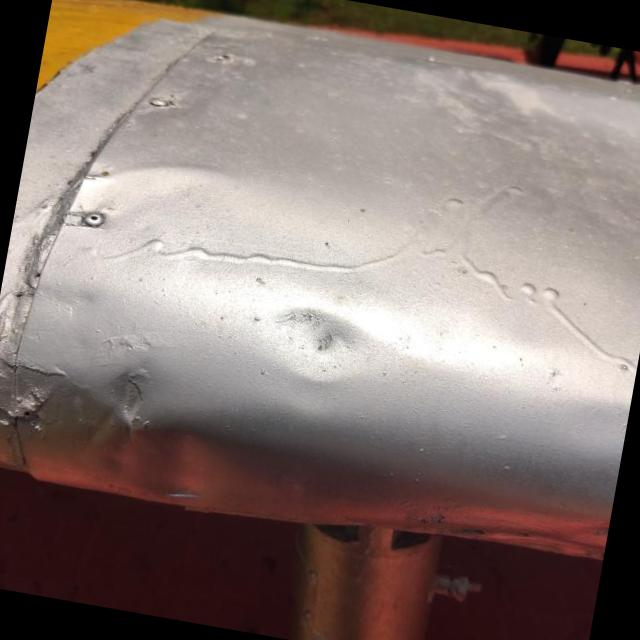Dent: (33, 362, 268, 516), (250, 265, 393, 418)
